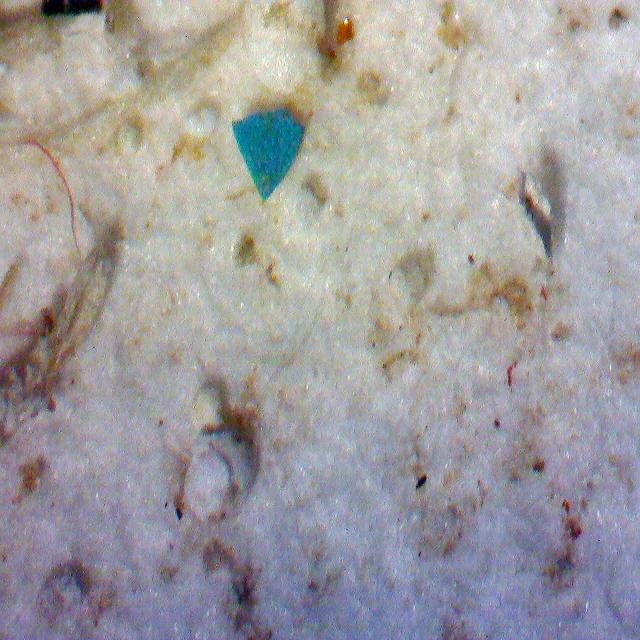microplastic: (232, 108, 305, 203)
